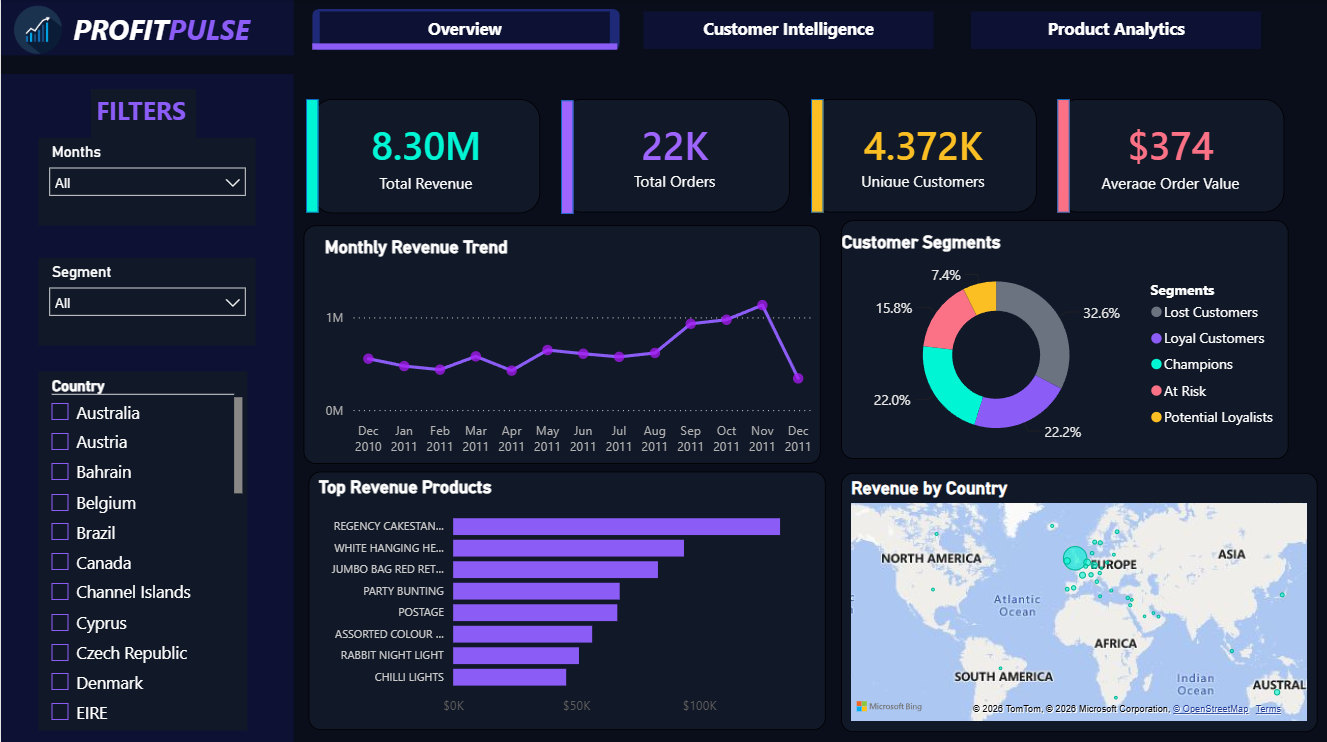

Layout of this report page (visuals, bound fields, positions):
{"tool":"powerbi","page":{"name":"Overview","canvas":[1280,720],"ordinal":0},"visuals":[{"type":"shape","box":[0,72.4,282.3,647.9],"z":0},{"type":"shape","box":[300.4,9.7,296.8,39.8],"z":500,"group":"g1"},{"type":"textbox","box":[0,0,282.3,54.3],"z":1000},{"type":"group","id":"g1","title":"Group 1","box":[300.4,9.7,296.8,42.2],"z":2000},{"type":"textbox","box":[307.6,12.1,280,36.2],"z":3000,"group":"g1"},{"type":"cardVisual","fields":{"Data":["cleaned_retail_data.Total Revenue"]},"box":[300,96.5,220,110],"z":3000},{"type":"textbox","box":[620.1,12.1,280,36.2],"z":4000},{"type":"textbox","box":[936.1,12.1,280,36.2],"z":5000},{"type":"shape","box":[294.4,96.5,12.1,109.8],"z":6000},{"type":"cardVisual","fields":{"Data":["cleaned_retail_data.Total Orders"]},"box":[540,96.5,220.8,109.8],"z":7000},{"type":"cardVisual","fields":{"Data":["cleaned_retail_data.Average Order Value"]},"box":[1020,96.5,219.6,109.8],"z":8000},{"type":"shape","box":[300.4,39.9,294.4,12.1],"z":8001,"group":"g1"},{"type":"cardVisual","fields":{"Data":["cleaned_retail_data.Unique Customers"]},"box":[780,96.5,219.6,109.8],"z":9000},{"type":"shape","box":[540.5,97.7,12.1,109.8],"z":10000},{"type":"shape","box":[781.8,96.5,12.1,109.8],"z":11000},{"type":"shape","box":[1019.4,96.5,12.1,109.8],"z":12000},{"type":"lineChart","title":"Monthly Revenue Trend","fields":{"Category":["cleaned_retail_data.MonthYear"],"Y":["cleaned_retail_data.Total Revenue"]},"box":[291.5,218.4,499.5,230.4],"z":13000},{"type":"donutChart","title":"Customer Segments","fields":{"Category":["rfm_segmentation.Segment"],"Y":["CountNonNull(rfm_segmentation.CustomerID)"]},"box":[810.7,213.1,431.9,230.4],"z":14000},{"type":"clusteredBarChart","title":"Top Revenue Products","fields":{"Category":["cleaned_retail_data.Description"],"Y":["Sum(cleaned_retail_data.Revenue)"]},"box":[296.3,456.5,499.5,249.7],"z":15000},{"type":"map","title":"Revenue by Country","fields":{"Category":["cleaned_retail_data.Country"],"Size":["Sum(cleaned_retail_data.Revenue)"]},"box":[811,457,460,250],"z":16000},{"type":"slicer","fields":{"Values":["cleaned_retail_data.Country"]},"box":[36.2,359.5,201.5,346.2],"z":17000},{"type":"slicer","fields":{"Values":["rfm_segmentation.Segment"]},"box":[36.2,249.7,209.9,84.5],"z":18000},{"type":"slicer","fields":{"Values":["cleaned_retail_data.Month_Name"]},"box":[36.2,133.9,209.9,84.5],"z":19000},{"type":"textbox","box":[86.9,86.9,101.3,47.1],"z":20000},{"type":"image","box":[10.9,4.8,49.5,49.5],"z":21000},{"type":"actionButton","box":[620,12,280,36],"z":22000},{"type":"actionButton","box":[935.9,12.3,279.9,35.7],"z":23000}]}

Visuals, with their boxes in screenshot pixels (x1, y1, x2, y2), scaled from the page's 1280x720 canvas onto the 1327x742 screenshot:
shape: {"x1": 0, "y1": 75, "x2": 293, "y2": 741}
shape: {"x1": 311, "y1": 10, "x2": 619, "y2": 51}
textbox: {"x1": 0, "y1": 0, "x2": 293, "y2": 56}
"Group 1" group: {"x1": 311, "y1": 10, "x2": 619, "y2": 53}
textbox: {"x1": 319, "y1": 12, "x2": 609, "y2": 50}
cardVisual - cleaned_retail_data.Total Revenue: {"x1": 311, "y1": 99, "x2": 539, "y2": 213}
textbox: {"x1": 643, "y1": 12, "x2": 933, "y2": 50}
textbox: {"x1": 970, "y1": 12, "x2": 1261, "y2": 50}
shape: {"x1": 305, "y1": 99, "x2": 318, "y2": 213}
cardVisual - cleaned_retail_data.Total Orders: {"x1": 560, "y1": 99, "x2": 789, "y2": 213}
cardVisual - cleaned_retail_data.Average Order Value: {"x1": 1057, "y1": 99, "x2": 1285, "y2": 213}
shape: {"x1": 311, "y1": 41, "x2": 617, "y2": 54}
cardVisual - cleaned_retail_data.Unique Customers: {"x1": 809, "y1": 99, "x2": 1036, "y2": 213}
shape: {"x1": 560, "y1": 101, "x2": 573, "y2": 214}
shape: {"x1": 811, "y1": 99, "x2": 823, "y2": 213}
shape: {"x1": 1057, "y1": 99, "x2": 1069, "y2": 213}
"Monthly Revenue Trend" lineChart: {"x1": 302, "y1": 225, "x2": 820, "y2": 463}
"Customer Segments" donutChart: {"x1": 840, "y1": 220, "x2": 1288, "y2": 457}
"Top Revenue Products" clusteredBarChart: {"x1": 307, "y1": 470, "x2": 825, "y2": 728}
"Revenue by Country" map: {"x1": 841, "y1": 471, "x2": 1318, "y2": 729}
slicer - cleaned_retail_data.Country: {"x1": 38, "y1": 370, "x2": 246, "y2": 727}
slicer - rfm_segmentation.Segment: {"x1": 38, "y1": 257, "x2": 255, "y2": 344}
slicer - cleaned_retail_data.Month_Name: {"x1": 38, "y1": 138, "x2": 255, "y2": 225}
textbox: {"x1": 90, "y1": 90, "x2": 195, "y2": 138}
image: {"x1": 11, "y1": 5, "x2": 63, "y2": 56}
actionButton: {"x1": 643, "y1": 12, "x2": 933, "y2": 49}
actionButton: {"x1": 970, "y1": 13, "x2": 1260, "y2": 49}
